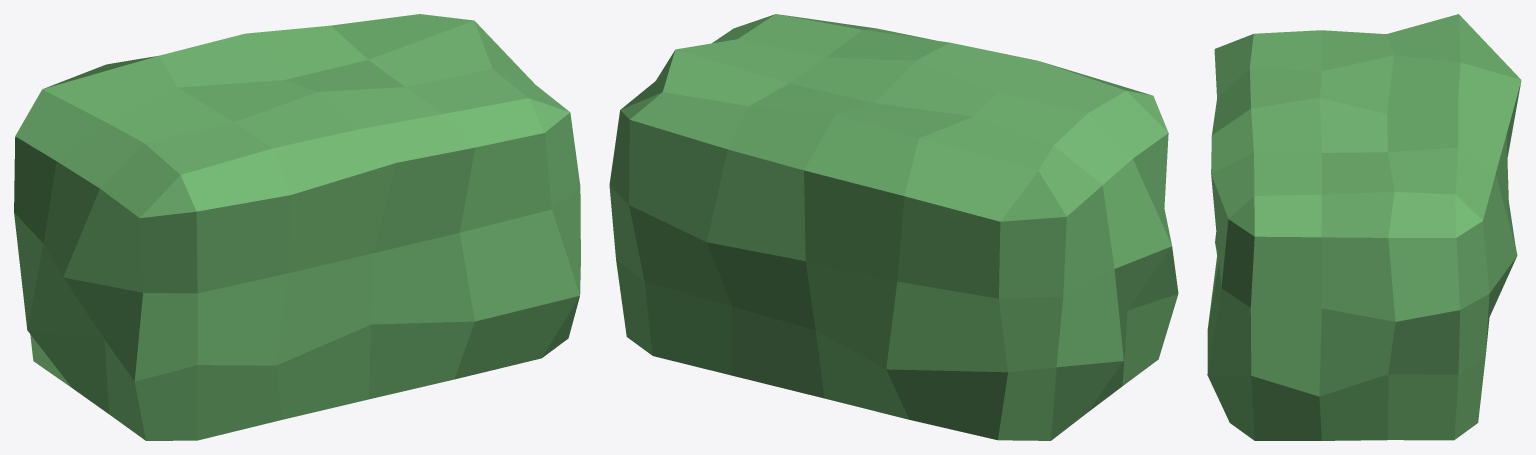
File: Bush.fbx
3 renders of one model, left to right at view 1: azimuth 30°, elevation 25°; view 2: azimuth 150°, elevation 25°; view 3: azimuth 270°, elevation 25°, orthographic. The views are drawn at different scales.
Parts seen in each view (by area): view 1: Cube; view 2: Cube; view 3: Cube.
Boxes of the visible parts, x1=… form: Cube: x1=14, y1=14, x2=580, y2=440; Cube: x1=609, y1=14, x2=1178, y2=440; Cube: x1=1207, y1=14, x2=1521, y2=440.
Size of the model in its own units: 63.38 by 32.72 by 37.35.
